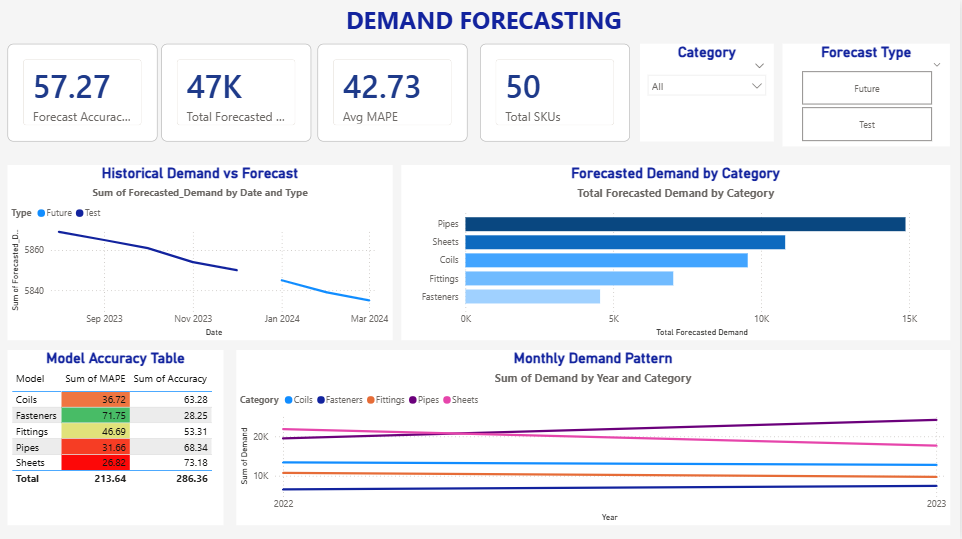

What the dashboard file says about the page in this screenshot:
{"tool":"powerbi","page":{"name":"Demand Forecasting","canvas":[1280,720],"ordinal":3},"visuals":[{"type":"textbox","box":[10,0,1270,58.3],"z":0},{"type":"cardVisual","fields":{"Data":["_Measures.Forecast Accuracy %"]},"box":[10,58.3,200,130],"z":1000},{"type":"cardVisual","fields":{"Data":["_Measures.Total SKUs"]},"box":[640,58.3,200,130],"z":2000},{"type":"cardVisual","fields":{"Data":["_Measures.Avg MAPE"]},"box":[423.3,58.3,200,130],"z":3000},{"type":"cardVisual","fields":{"Data":["_Measures.Total Forecasted Demand"]},"box":[215,58.3,200,130],"z":4000},{"type":"lineChart","title":"Historical Demand vs Forecast","fields":{"Category":["forecast_results.Date"],"Y":["Sum(forecast_results.Forecasted_Demand)"],"Series":["forecast_results.Type"]},"box":[10,220,513.3,233.3],"z":5000},{"type":"clusteredBarChart","title":"Forecasted Demand by Category","fields":{"Category":["forecast_results.Category"],"Y":["_Measures.Total Forecasted Demand"]},"box":[535,220,731.7,233.3],"z":6000},{"type":"tableEx","title":" Model Accuracy Table","fields":{"Values":["mape_scores.Model","Sum(mape_scores.MAPE)","Sum(mape_scores.Accuracy)"]},"box":[10,466.7,288.3,233.3],"z":7000},{"type":"lineChart","title":"Monthly Demand Pattern","fields":{"Category":["monthly_demand.Month.Variation.Date Hierarchy.Year","monthly_demand.Month.Variation.Date Hierarchy.Quarter","monthly_demand.Month.Variation.Date Hierarchy.Month","monthly_demand.Month.Variation.Date Hierarchy.Day"],"Y":["Sum(monthly_demand.Demand)"],"Series":["monthly_demand.Category"]},"box":[315,466.7,951.7,233.3],"z":8000},{"type":"slicer","title":" Category","fields":{"Values":["forecast_results.Category"]},"box":[853.3,58.3,178.3,130],"z":9000},{"type":"slicer","title":" Forecast Type","fields":{"Values":["forecast_results.Type"]},"box":[1043.3,58.3,223.3,136.7],"z":10000}]}

Visuals, with their boxes in screenshot pixels (x1, y1, x2, y2), scaled from the page's 1280x720 canvas onto the 962x539 screenshot:
textbox: detection(8, 0, 961, 44)
cardVisual - _Measures.Forecast Accuracy %: detection(8, 44, 158, 141)
cardVisual - _Measures.Total SKUs: detection(481, 44, 631, 141)
cardVisual - _Measures.Avg MAPE: detection(318, 44, 468, 141)
cardVisual - _Measures.Total Forecasted Demand: detection(162, 44, 312, 141)
"Historical Demand vs Forecast" lineChart: detection(8, 165, 393, 339)
"Forecasted Demand by Category" clusteredBarChart: detection(402, 165, 952, 339)
" Model Accuracy Table" tableEx: detection(8, 349, 224, 524)
"Monthly Demand Pattern" lineChart: detection(237, 349, 952, 524)
" Category" slicer: detection(641, 44, 775, 141)
" Forecast Type" slicer: detection(784, 44, 952, 146)
